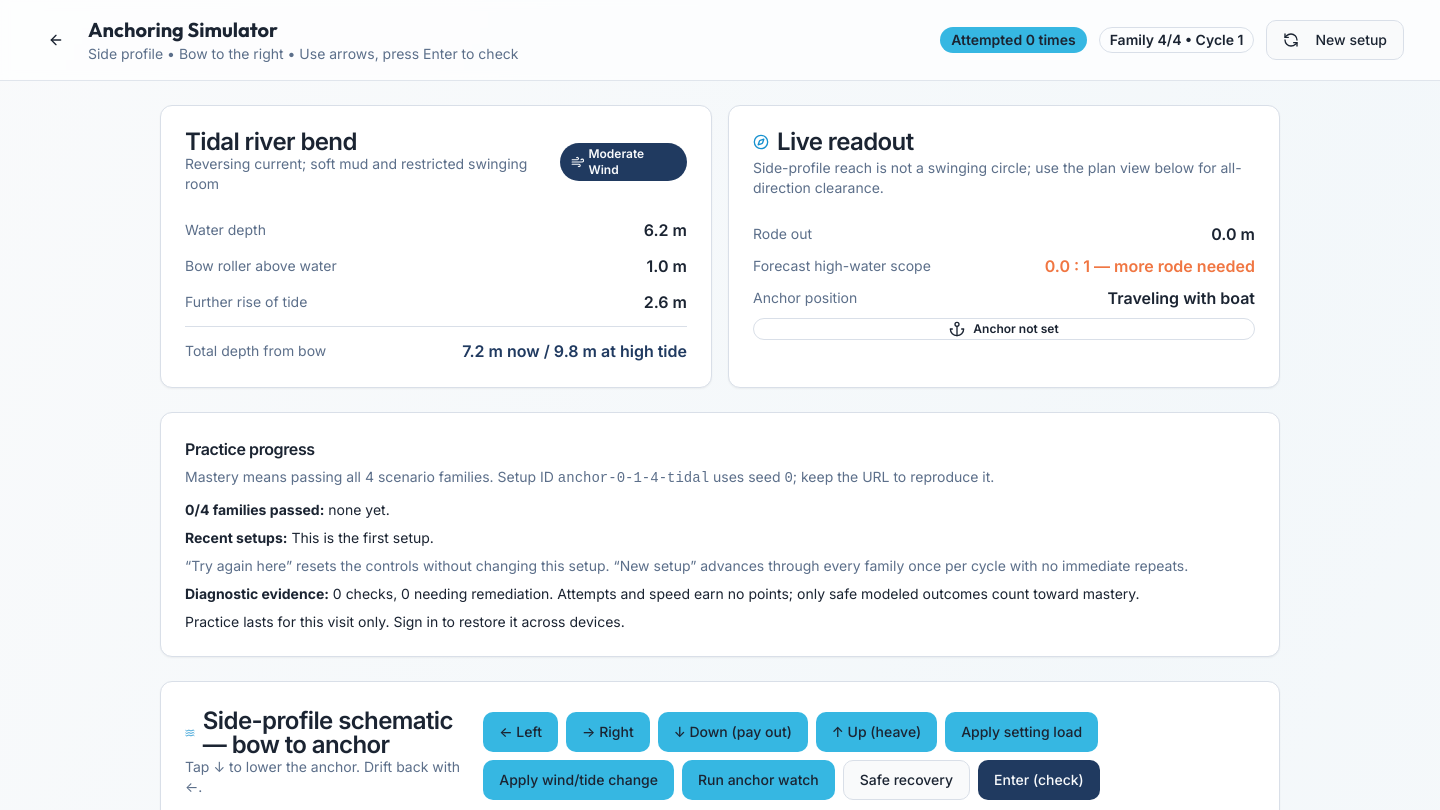
Test: AnchorMinigame › reproduces a setup from URL identity and advances without a boundary repeat
Expected: the text "Tidal river bend" is shown, [185,127,357,156]
Expected: the text "anchor-0-1-4-tidal" is shown, [558,470,709,486]
Click the button "New setup". click: (1335, 40)
box: [1266,20,1404,60]
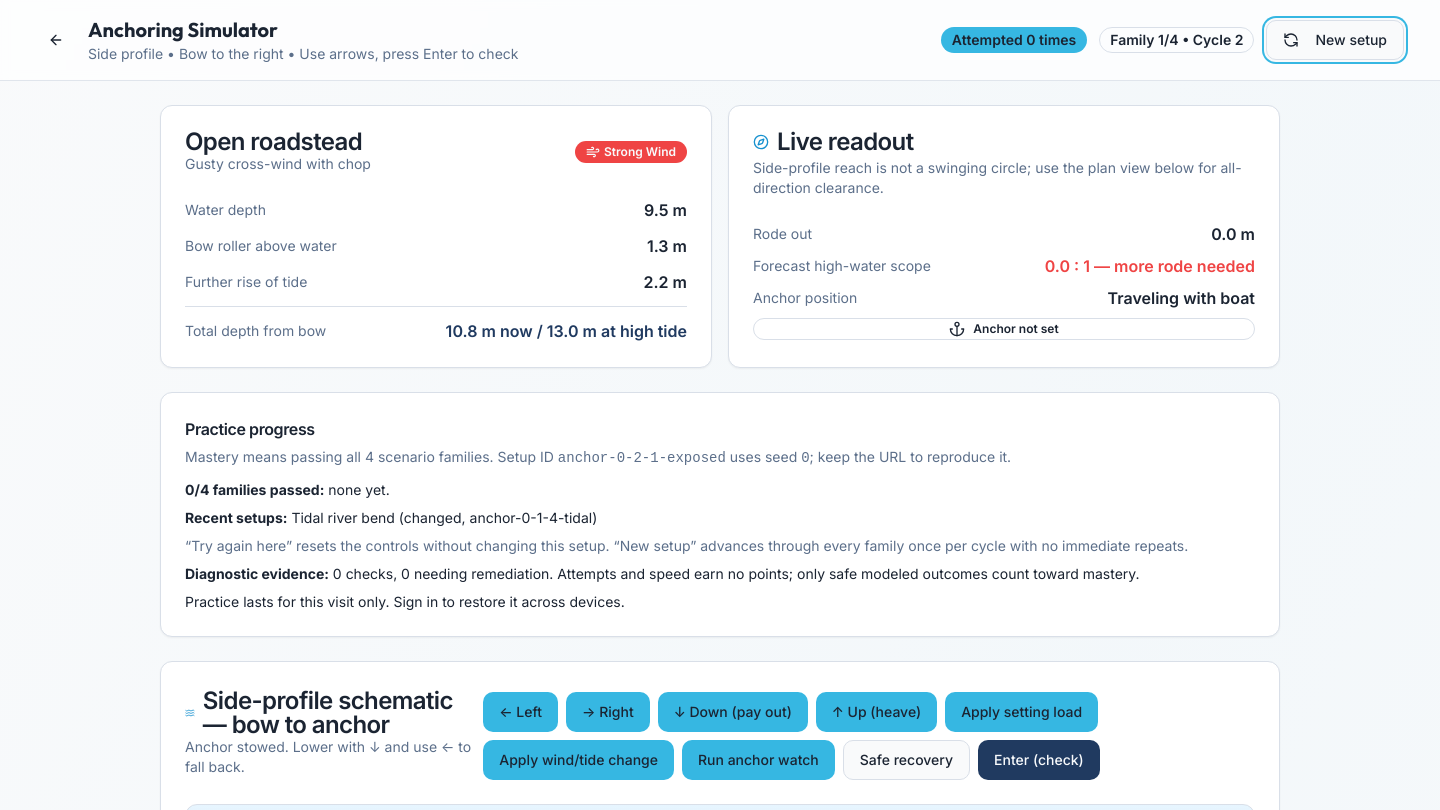
Now the text "Family 1/4 • Cycle 2" is shown, box [1099,27,1254,53]
Now the text "Tidal river bend (changed, anchor-0-1-4-tidal)" is shown, box [291,509,597,526]
